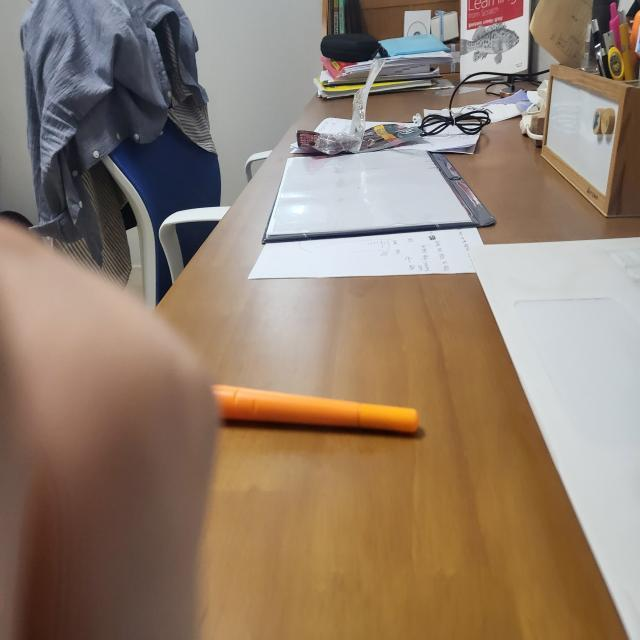carrot: (204, 374, 423, 435)
